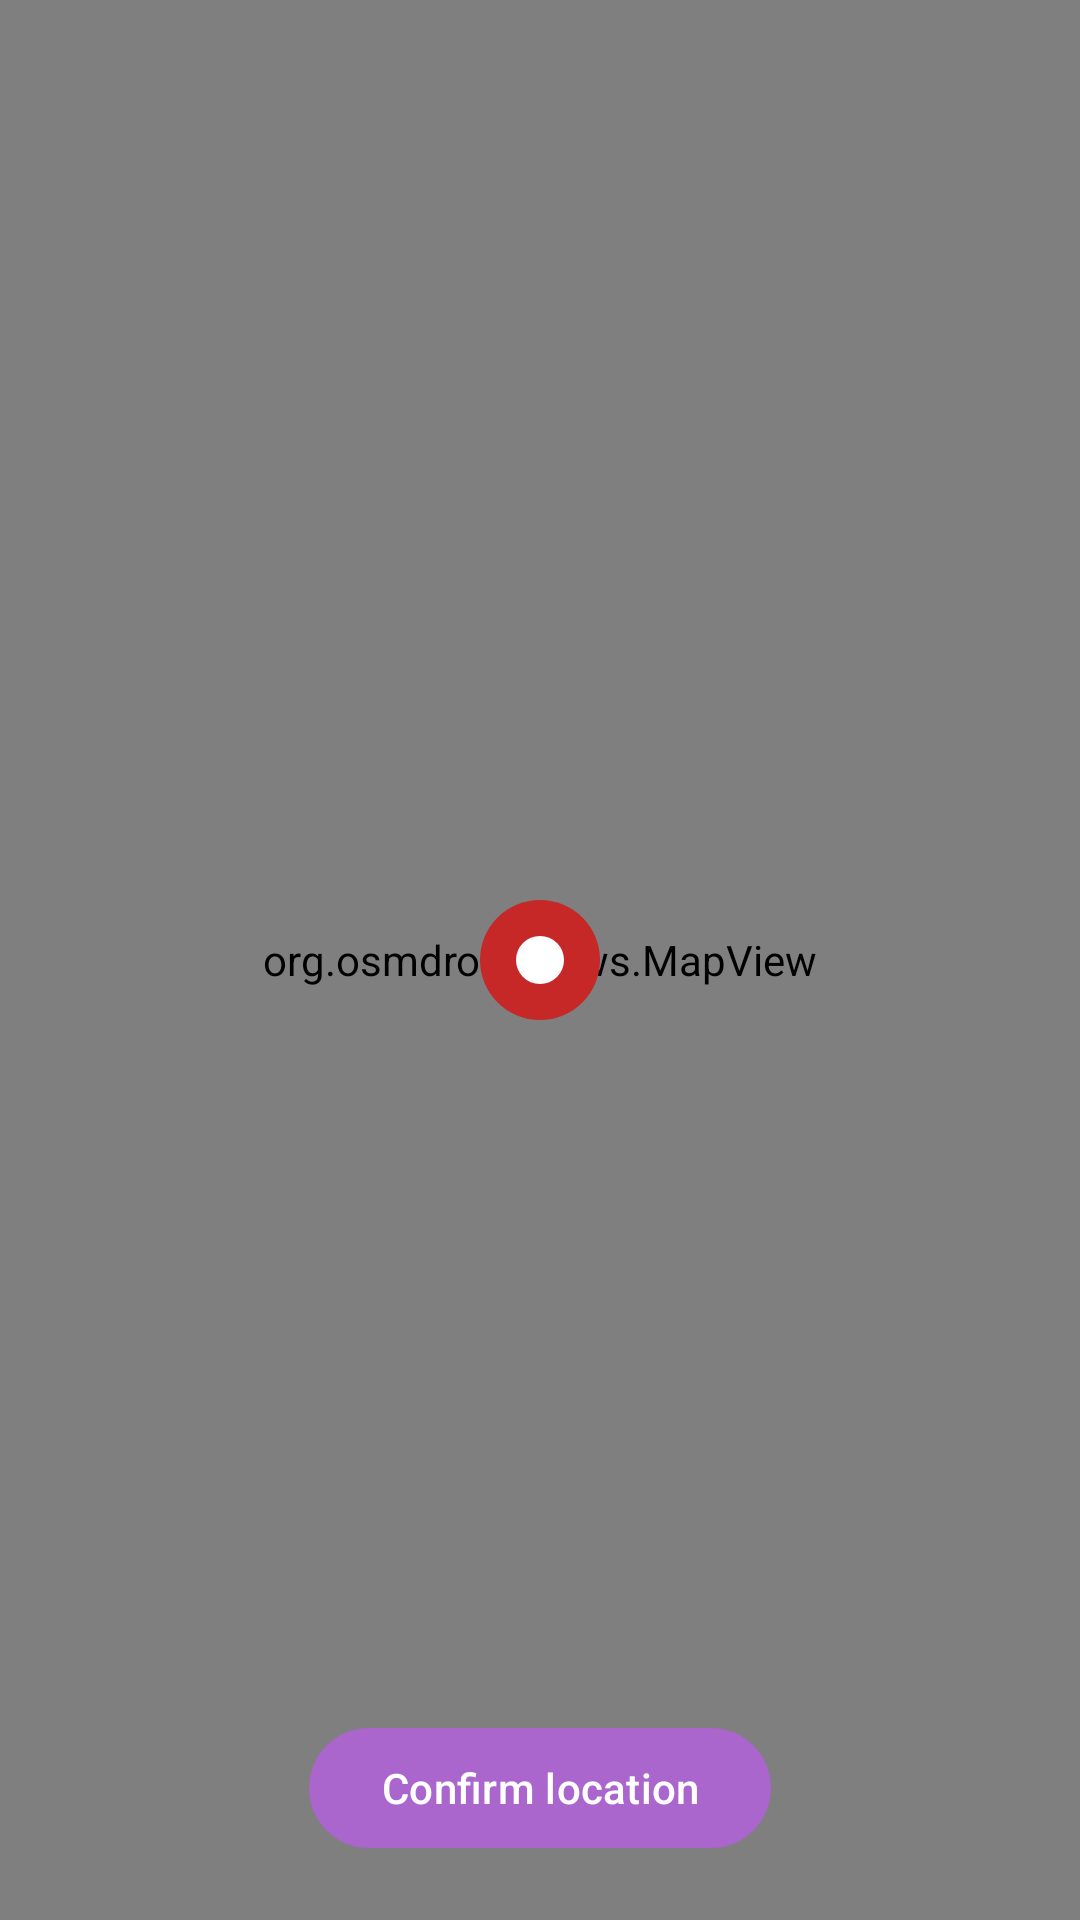

Screen size 1080×1920. Icon name, then its center in pixels as [x,y]:
Center marker: [544,960]
